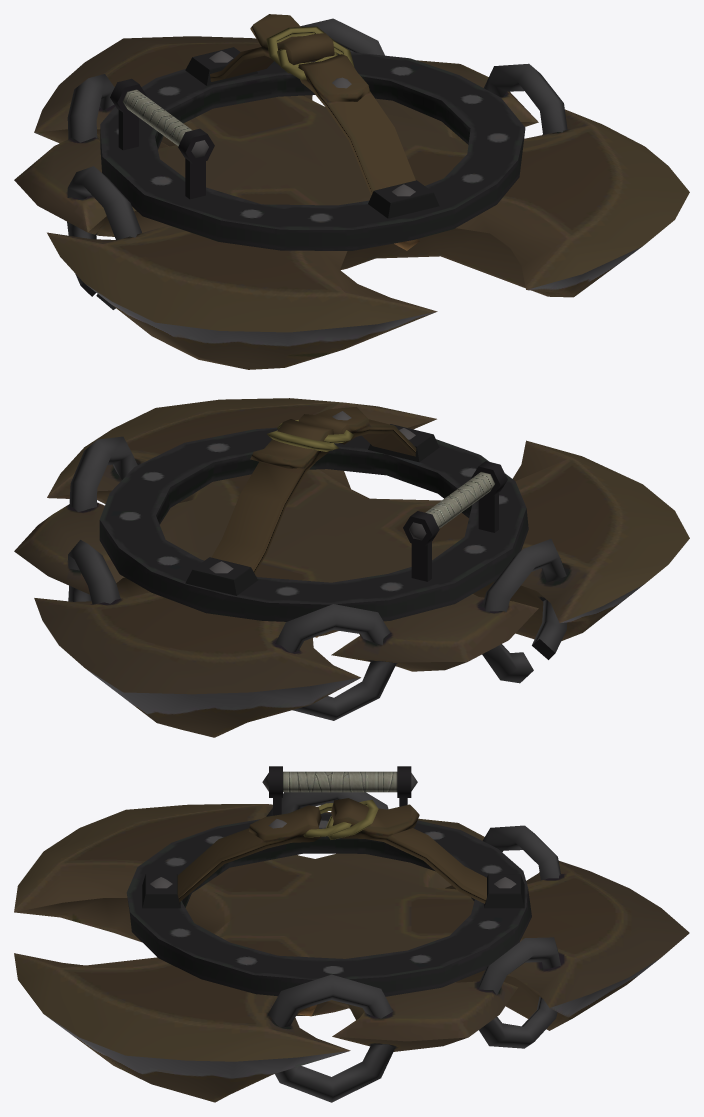
File: Weapon_Shield_018.glb
3 renders of one model, top to bottom at view 1: azimuth 30°, elevation 25°; view 2: azimuth 150°, elevation 25°; view 3: azimuth 270°, elevation 25°, orthographic. The views are drawn at different scales.
Parts seen in each view (by area): view 1: Weapon_Shield_018; view 2: Weapon_Shield_018; view 3: Weapon_Shield_018.
Part boxes in pixels (left/top/right/bottom): Weapon_Shield_018: left=14, top=14, right=689, bottom=369; Weapon_Shield_018: left=14, top=398, right=689, bottom=737; Weapon_Shield_018: left=14, top=766, right=689, bottom=1102.
Size of the model in its own units: 0.6881 by 0.2683 by 0.7625.
1 material, 1 textured.
